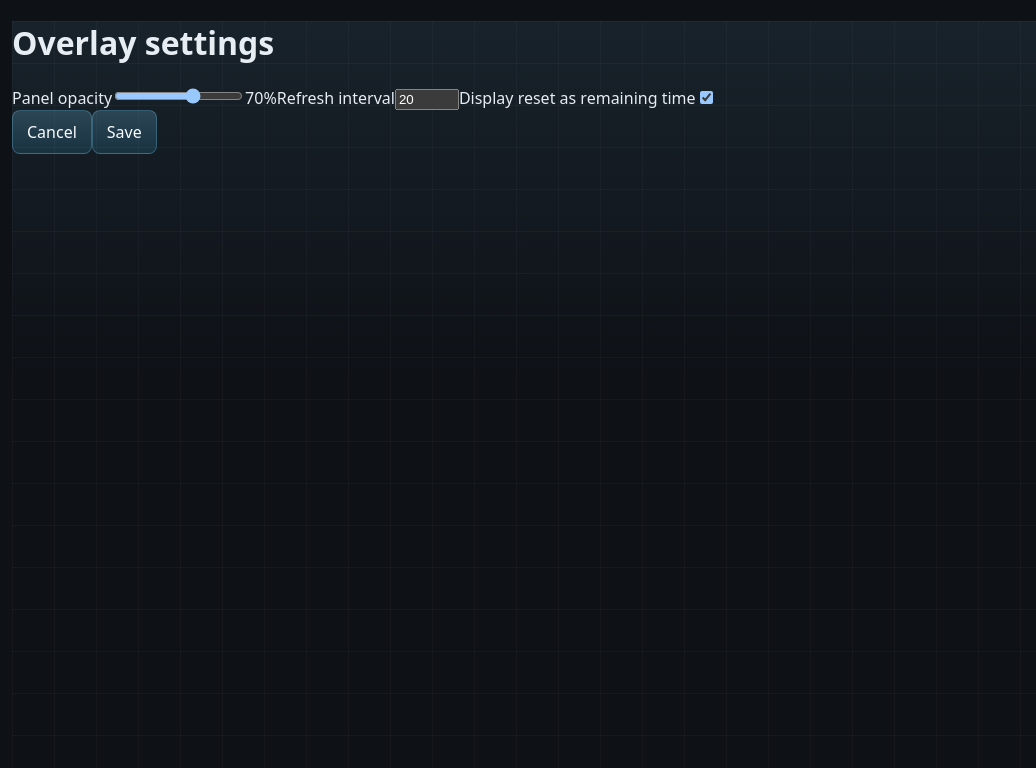
Test: SettingsDialog › field error가 있으면 표시하고 창을 닫지 않는다
Expected: the number field labelled "Refresh interval" holds "20", [395,89,459,110]
Click the button "Save" at (124, 132), box [92,110,157,154]
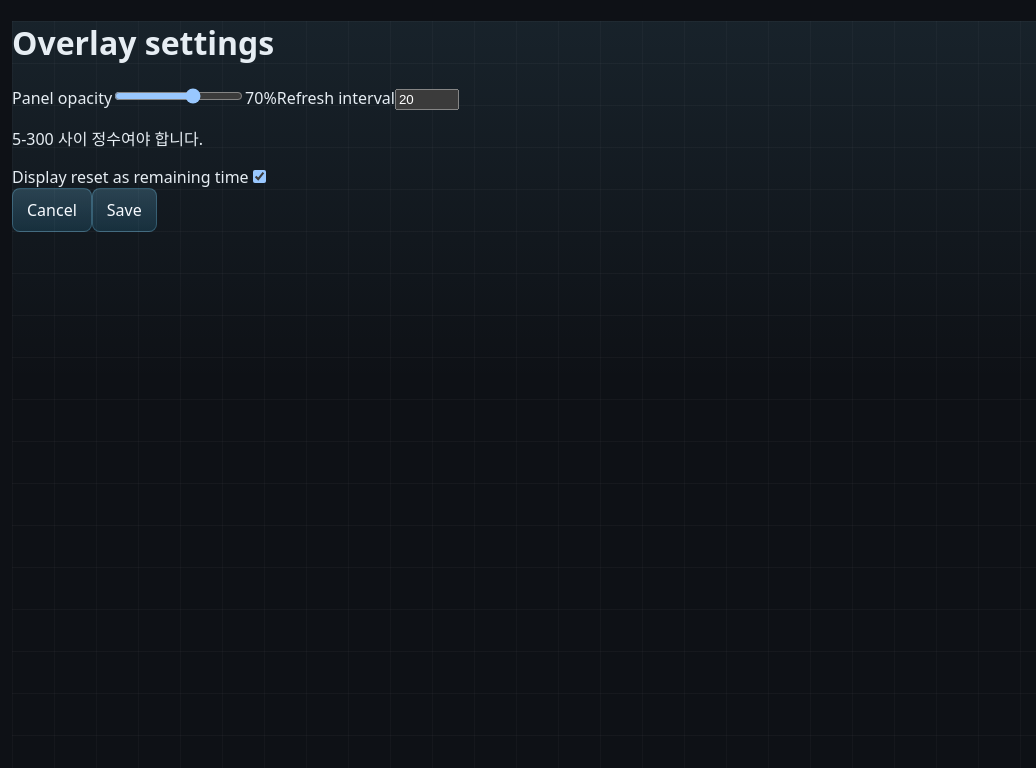
Expected: the text "5-300 사이 정수여야 합니다." is shown, [12,128,203,150]
